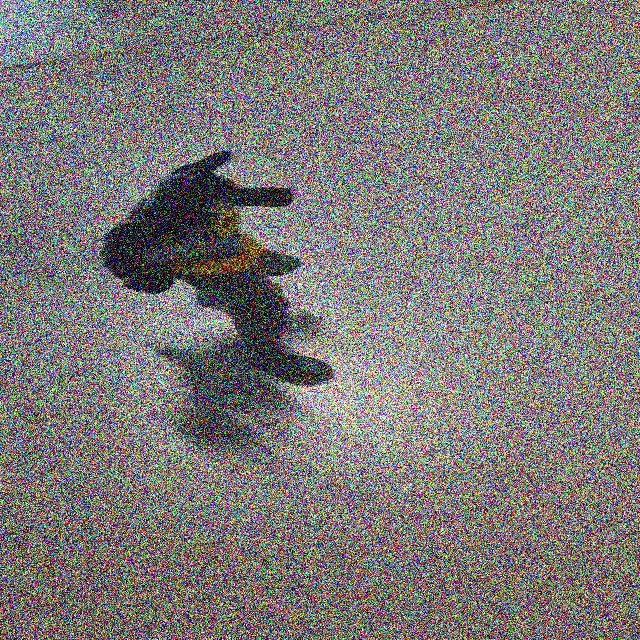Batman: (105, 148, 350, 390)
